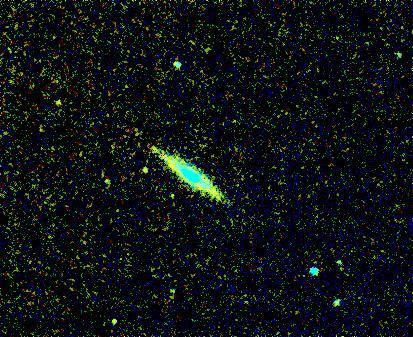star: (40, 87, 70, 117)
